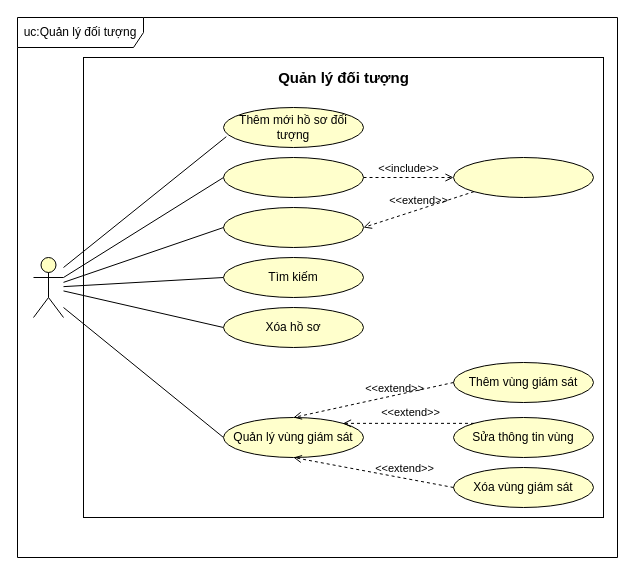
Some shapes in this 635 by 575 pixel diagram are drawn without their labels. The shapes that lost their labels are listed below. From the top down, each one's box as (x1, y1, x2, y2) in pixels, then its label:
(222, 156, 364, 198): Cập nhật thông tin
(452, 156, 594, 198): Xem hồ sơ đối tượng
(222, 206, 364, 248): Xem danh sách
(32, 256, 64, 318): Cán bộ
